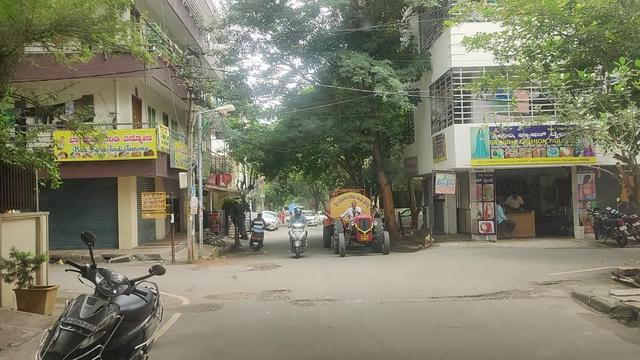HMV: (318, 191, 383, 257)
LMV: (61, 249, 156, 360), (290, 209, 308, 257), (252, 212, 270, 251)
RoadDamages: (437, 276, 566, 306), (203, 281, 297, 302), (171, 299, 221, 317), (245, 260, 284, 278), (296, 295, 341, 310)
